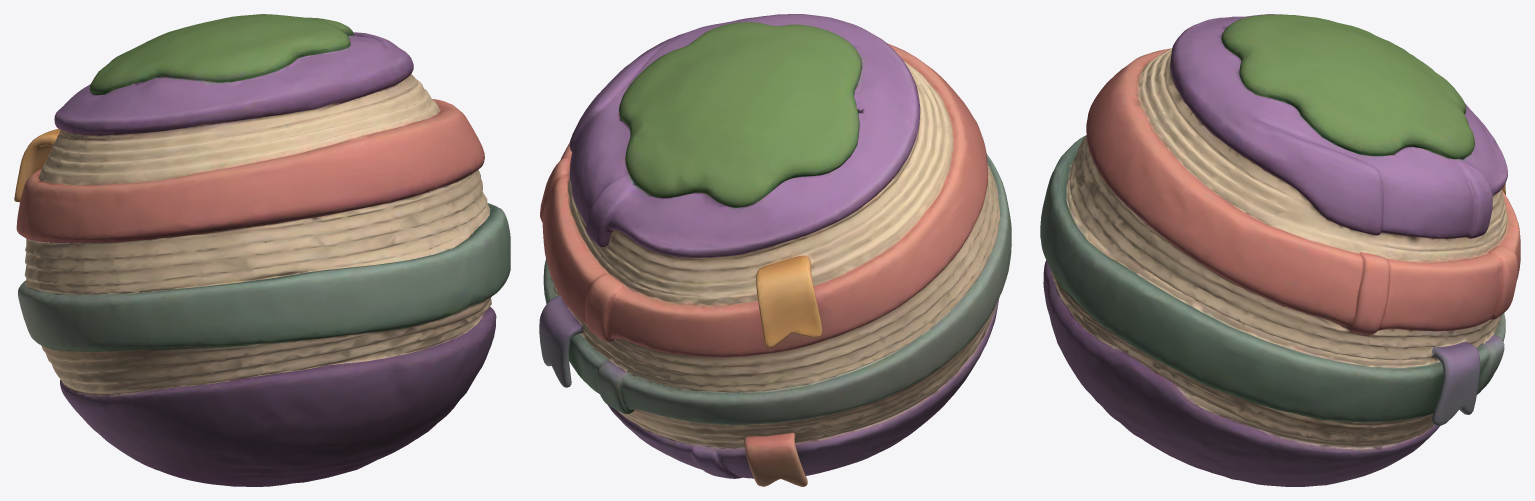
File: planet_book.glb
3 renders of one model, left to right at view 1: azimuth 30°, elevation 25°; view 2: azimuth 150°, elevation 25°; view 3: azimuth 270°, elevation 25°, orthographic. The views are drawn at different scales.
Visible parts, largest first — view 1: geometry_0; view 2: geometry_0; view 3: geometry_0.
Part boxes in pixels (x1=…): geometry_0: x1=14, y1=14, x2=510, y2=486; geometry_0: x1=539, y1=14, x2=1011, y2=486; geometry_0: x1=1040, y1=14, x2=1520, y2=486.
Bounding box in the file's own units: 0.8933 × 0.8595 × 0.8889.
Materials: 1 (1 with a texture image).
